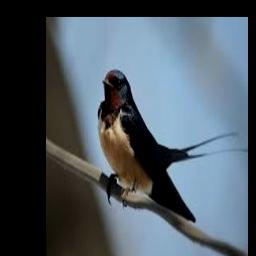Swallow: (98, 68, 248, 223)
